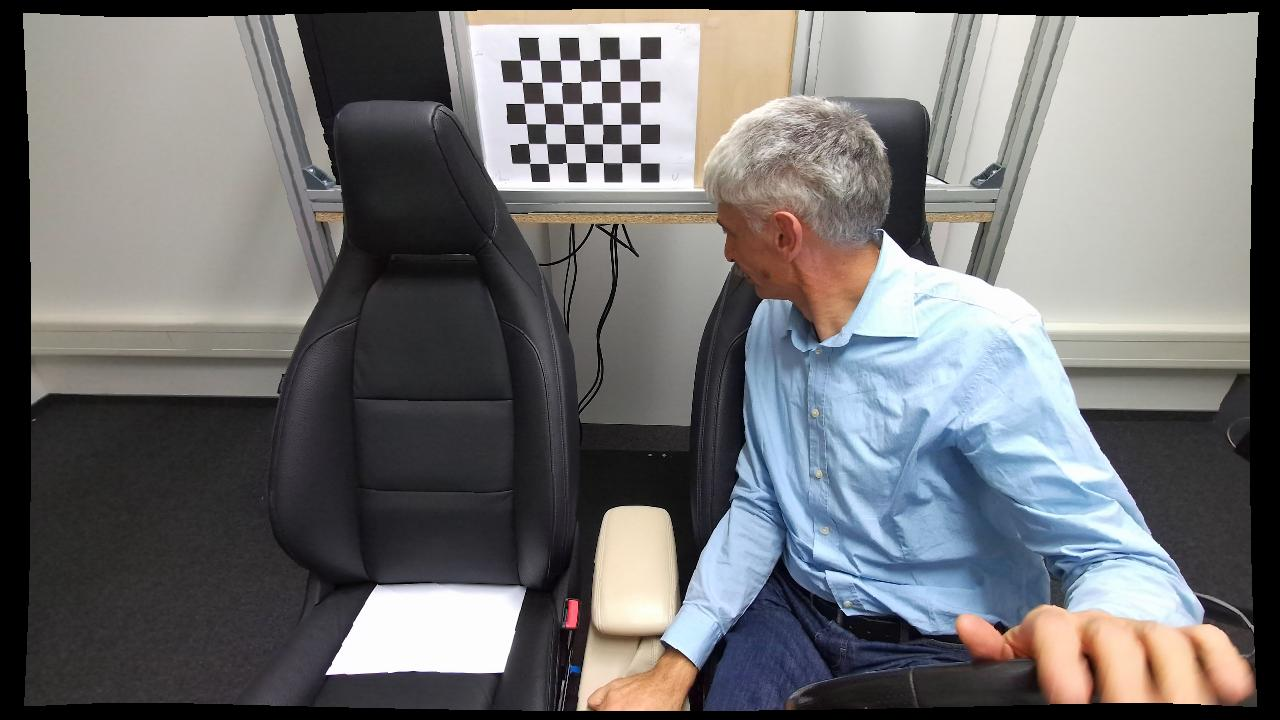Distracted: (671, 92, 1062, 713)
